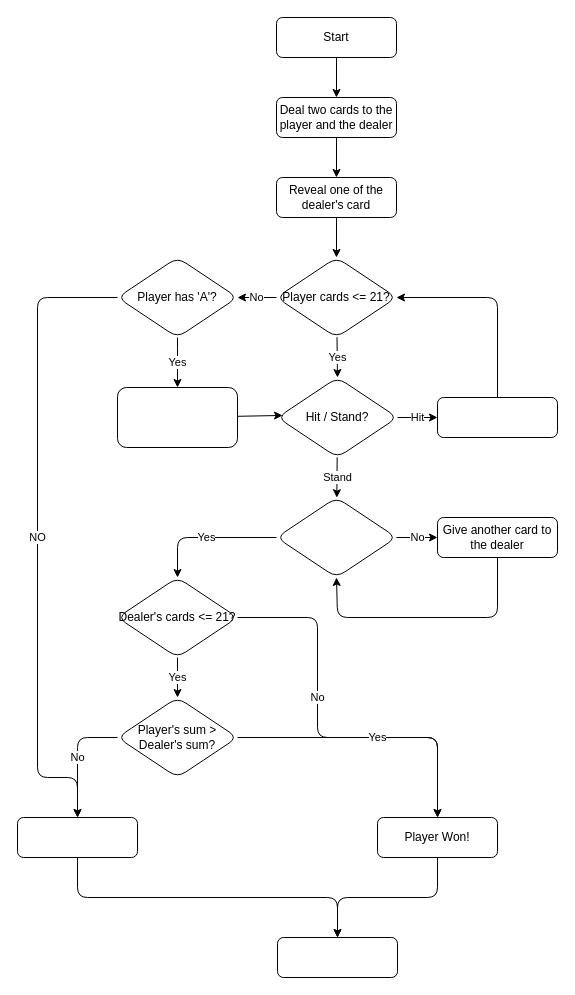
This 575x995 diagram has some shape labels left out. The shapes that lost their labels are listed below. From the top down, each one's centre as x and y in pixels, then its label:
At (x=177, y=417): "Switch the A:11 to A:1".
At (x=497, y=417): "Give another card to the player".
At (x=336, y=537): "Dealer cards >= 17?".
At (x=77, y=837): "Player Lost!".
At (x=337, y=957): "End".
